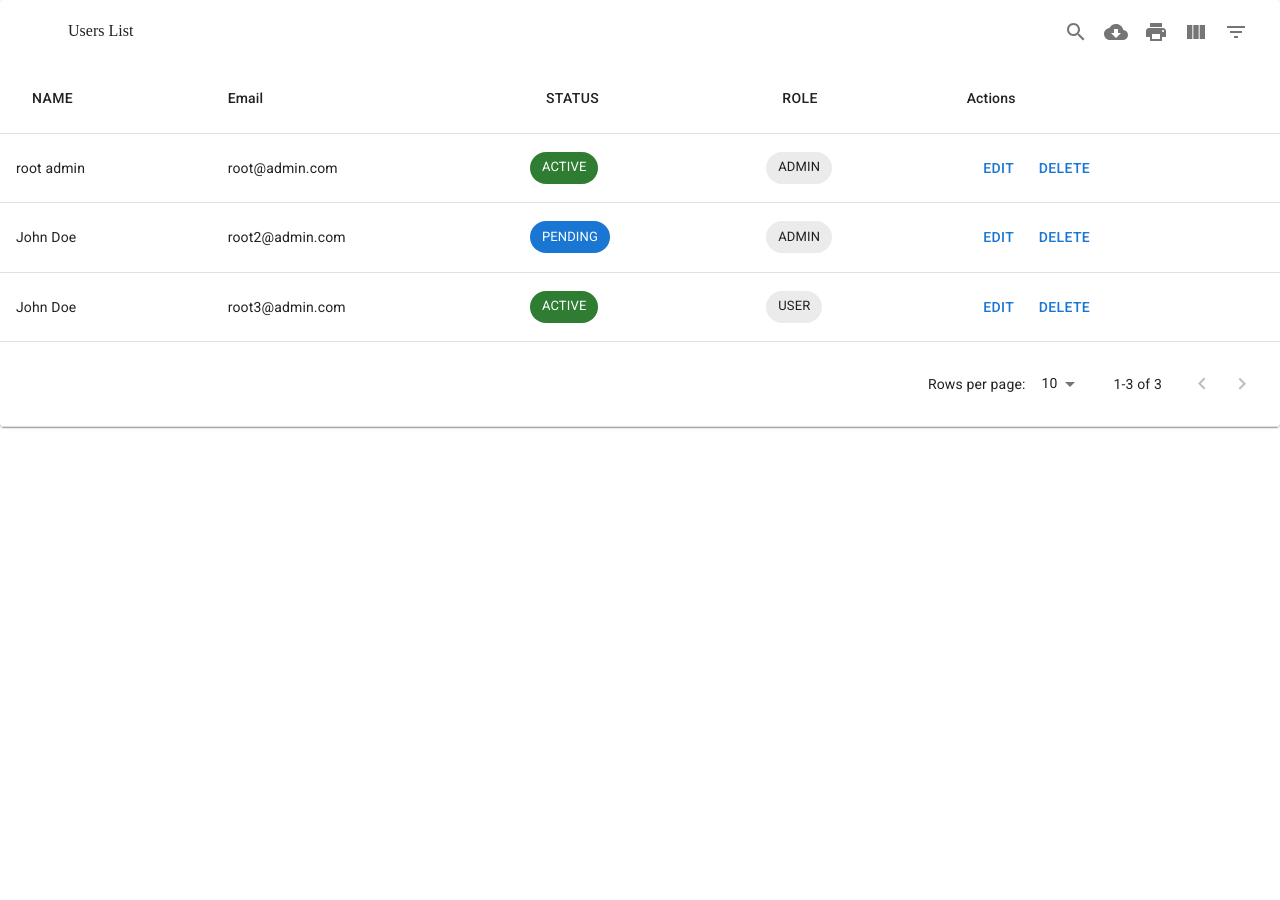
Test: <UserTable /> › should render add movie modal
Click the button with test id "deleteButton" at point(1064, 168), box [1031,150,1098,186]
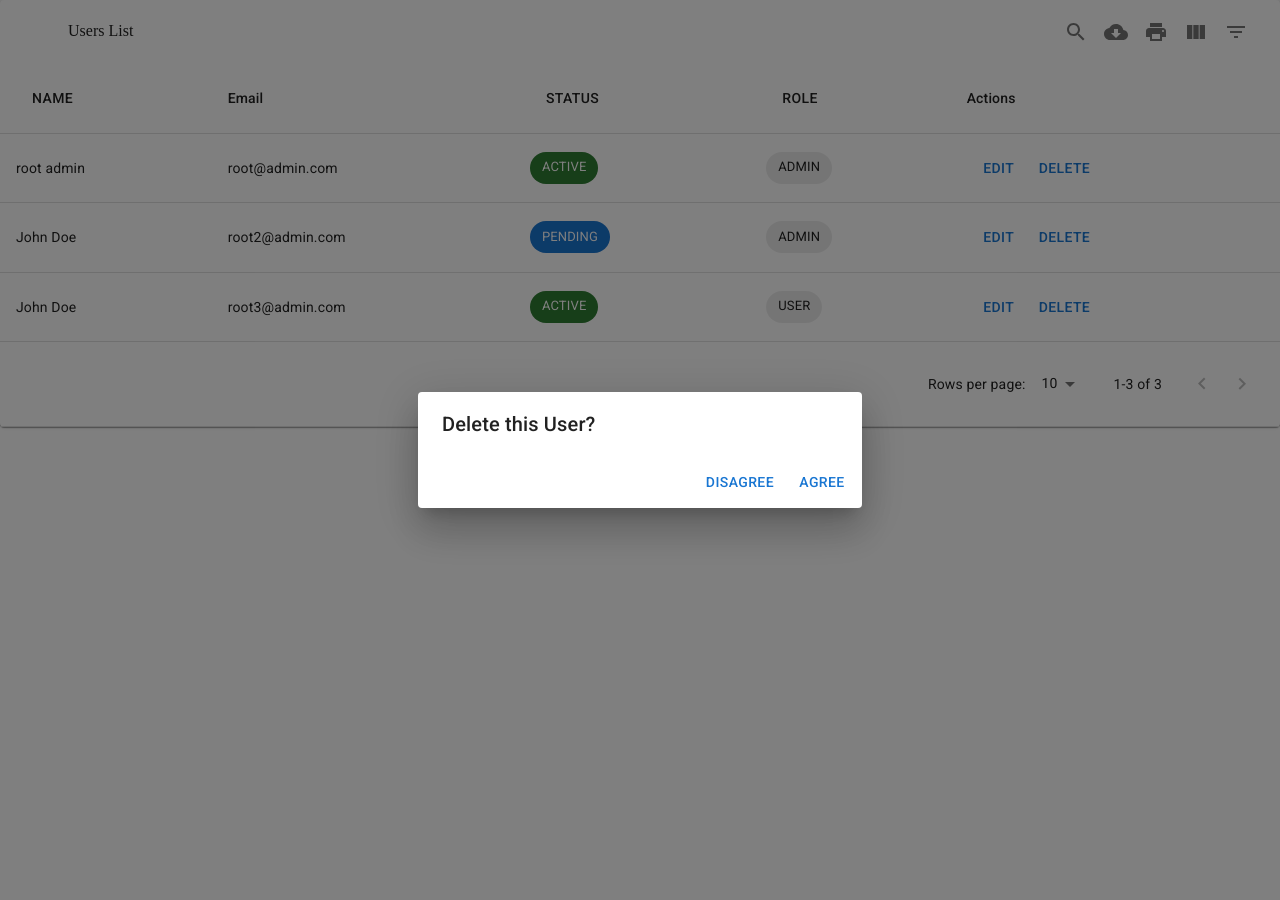
Now the dialog is shown, box [418,392,862,508]
